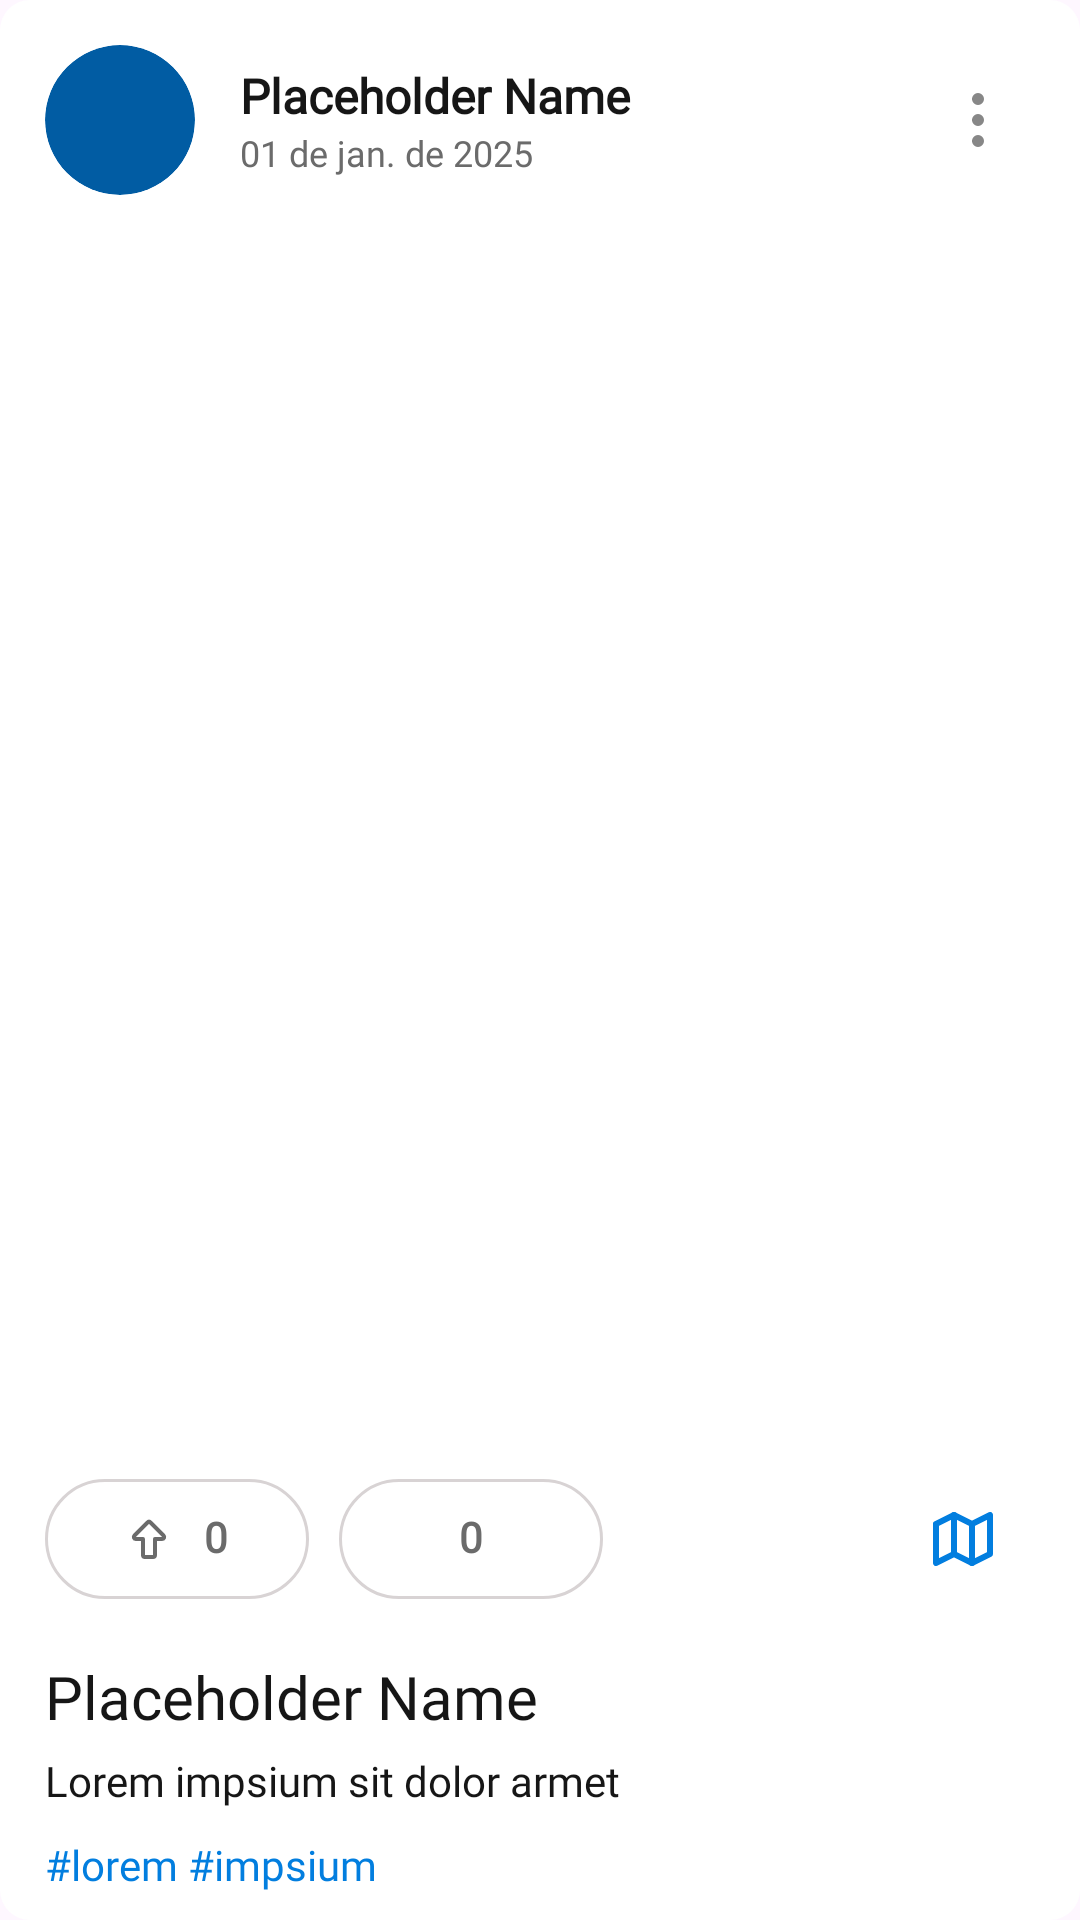

Named icons in this screenshot (1080×1920) and their bounding boxes, [x1, y1, x2, y2]:
dots vertical: [972, 93, 984, 147]
map: [933, 1512, 993, 1566]
